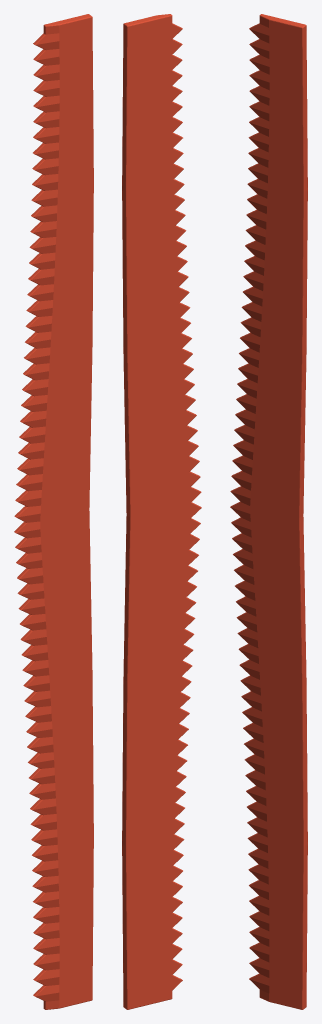
Rendered from Ruler.fbx.
3 renders of one model, left to right at view 1: azimuth 30°, elevation 25°; view 2: azimuth 210°, elevation 25°; view 3: azimuth 330°, elevation 25°, orthographic.
Parts seen in each view (by area): view 1: Ruler; view 2: Ruler; view 3: Ruler.
Part boxes in pixels (box(x1,y1,x2,y2)): Ruler: box(14, 14, 93, 1009); Ruler: box(122, 14, 201, 1009); Ruler: box(230, 14, 307, 1009).
Bounding box in the file's own units: 146 × 1792 × 13.65.
